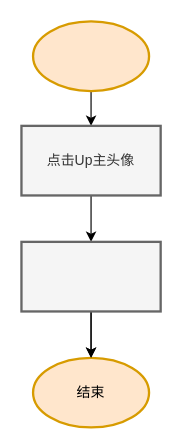
This 181x448 diagram has some shape labels left out. The shapes that lost their labels are listed below. From the top down, each one's centre as x and y in pixels, then its label:
At [90,56]: "开始".
At [90,276]: "跳转到相应链接".
